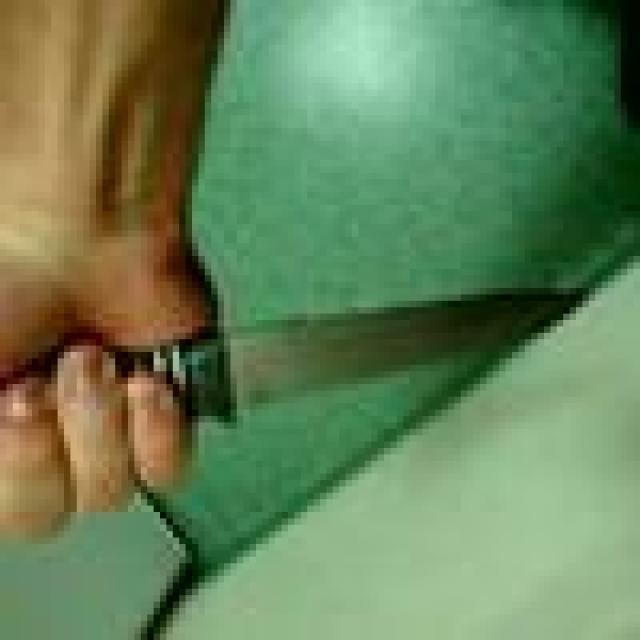faca: (0, 230, 614, 550)
